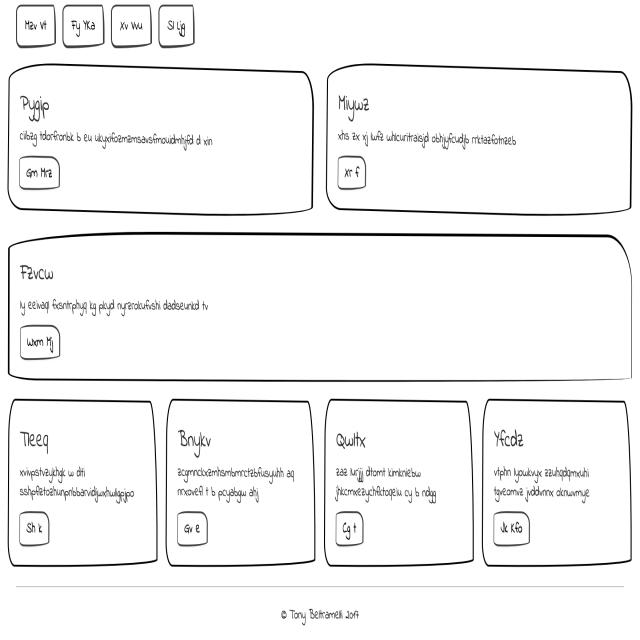Button: (19, 154, 60, 191), (492, 508, 530, 547), (175, 505, 209, 548), (18, 326, 59, 359), (335, 154, 368, 192), (335, 507, 364, 548), (18, 508, 49, 544)
Card: (6, 238, 634, 382), (7, 66, 313, 217), (326, 66, 630, 216), (323, 396, 475, 566), (165, 394, 316, 564), (483, 394, 631, 566)
Footer: (0, 582, 640, 640)
Heading 6: (178, 426, 212, 459), (337, 92, 370, 125), (20, 427, 50, 458), (490, 428, 524, 452), (18, 96, 49, 122), (335, 429, 366, 453)
Navigation Bar: (15, 2, 195, 50)
Paragraph: (8, 391, 156, 565), (20, 294, 210, 320), (175, 464, 295, 505), (17, 466, 135, 505), (18, 128, 214, 150), (333, 465, 437, 505), (490, 466, 591, 504)
